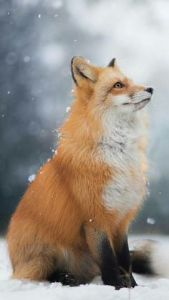fox: (12, 52, 159, 286)
